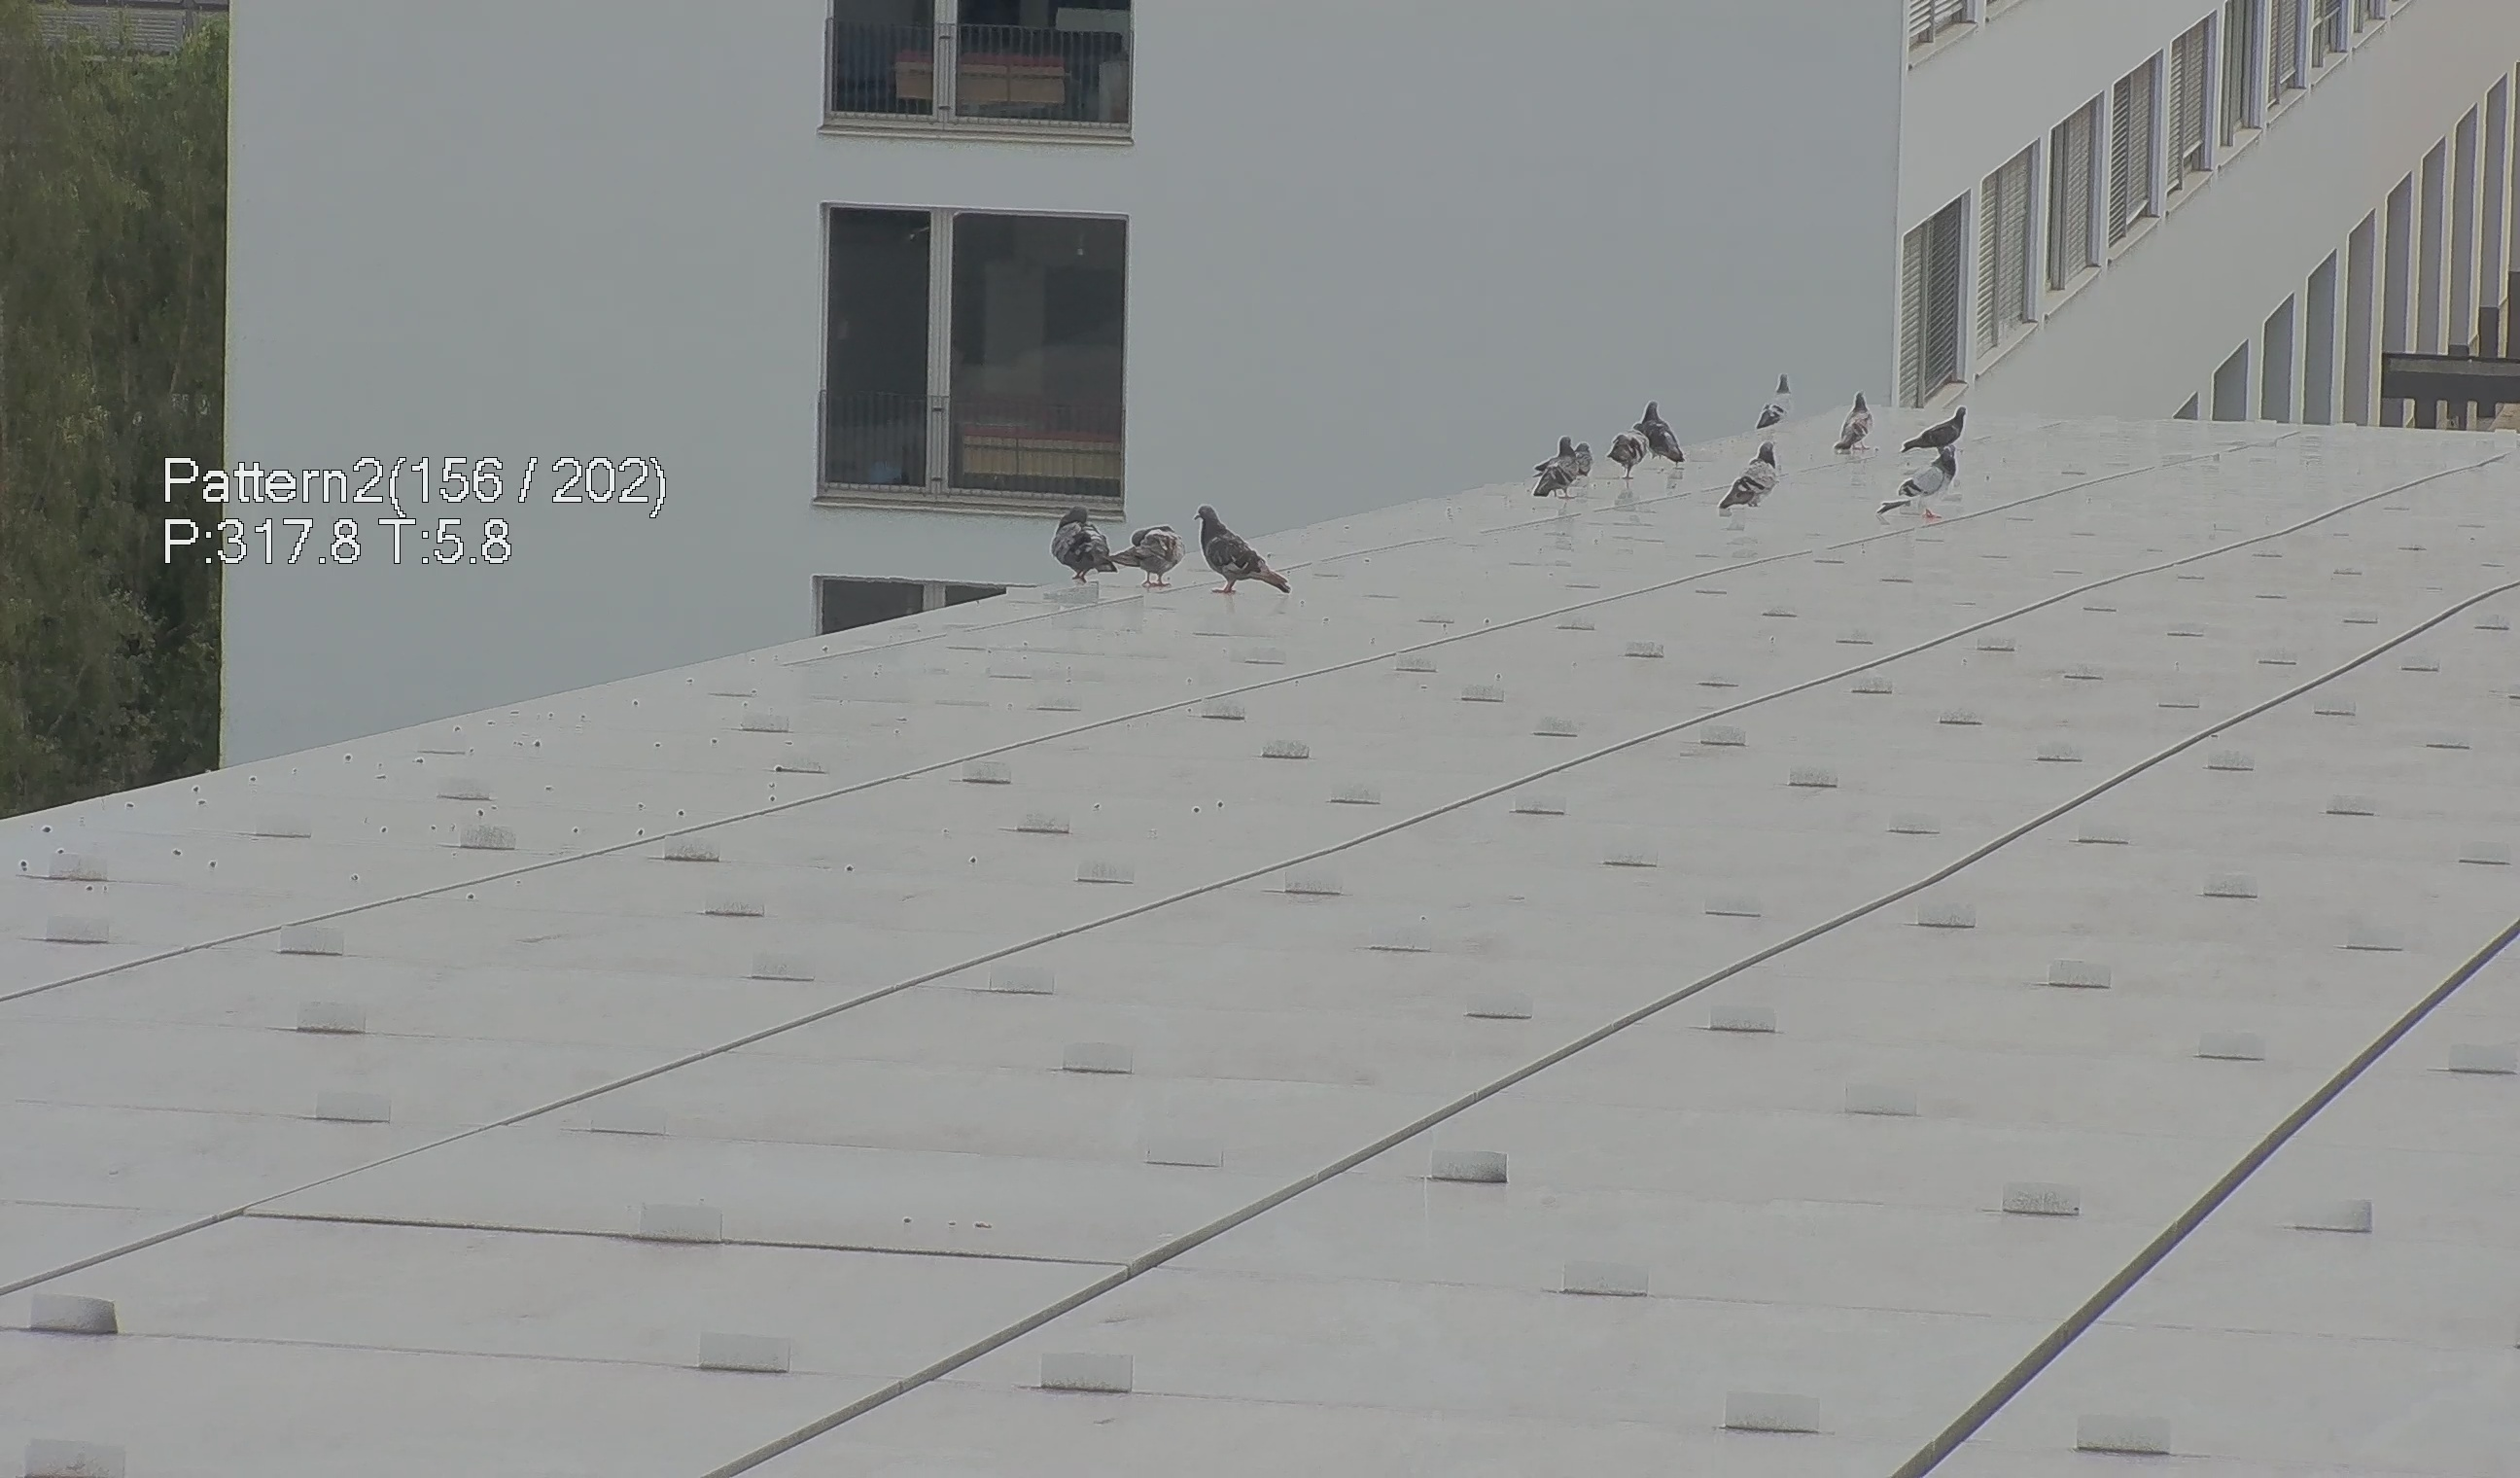Pigeon: (1184, 484, 1294, 605), (1871, 445, 1964, 528), (1104, 512, 1185, 595), (1048, 496, 1118, 589), (1530, 422, 1600, 500), (1718, 442, 1783, 521), (1634, 399, 1690, 468), (1897, 401, 1964, 456), (1832, 384, 1878, 459), (1604, 415, 1655, 479), (1750, 371, 1799, 431)
